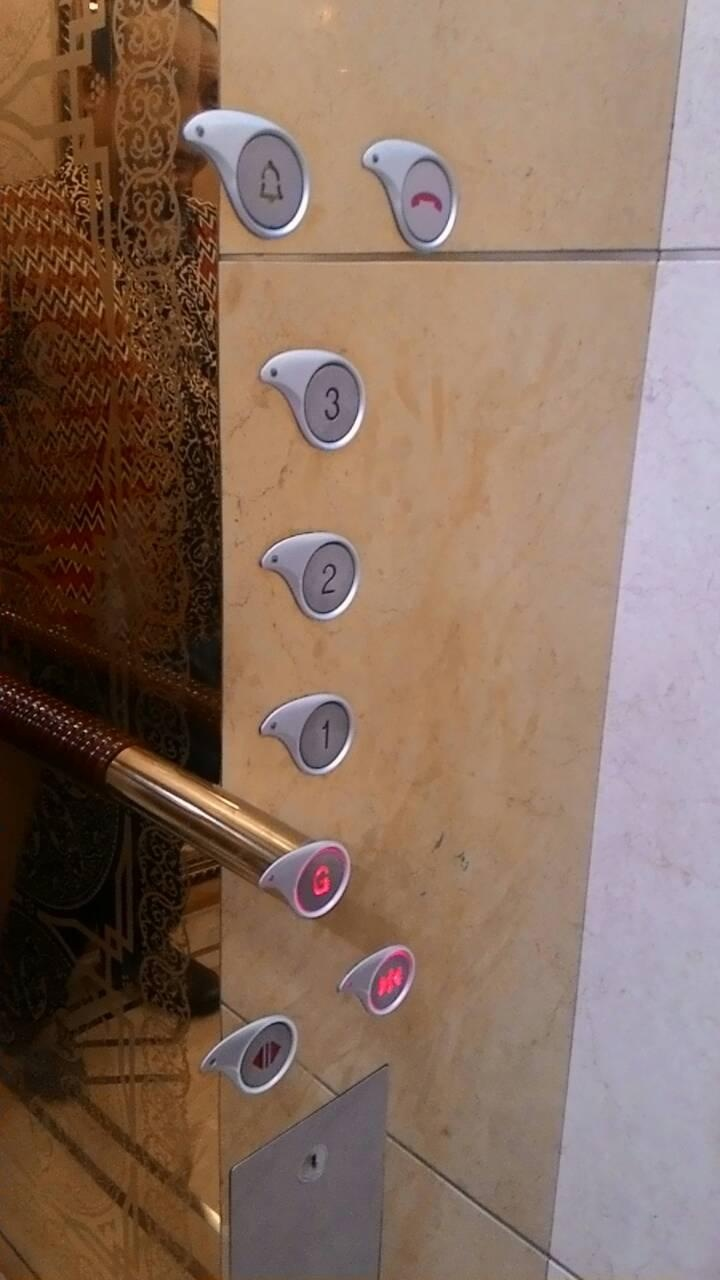1: (258, 696, 354, 776)
2: (260, 532, 360, 619)
3: (259, 350, 366, 450)
G: (257, 839, 352, 919)
alarm: (182, 108, 307, 238)
call: (359, 137, 458, 256)
close: (338, 945, 415, 1016)
open: (198, 1016, 299, 1091)
